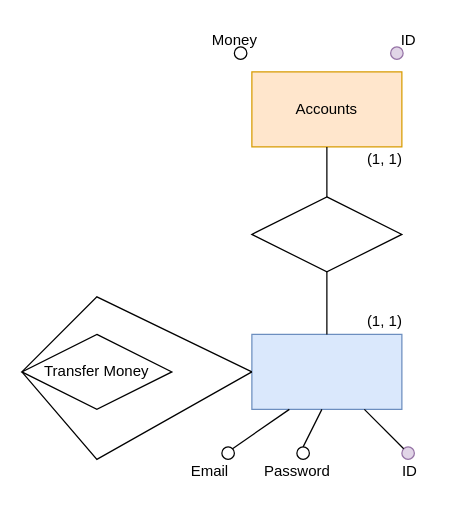
Image size: 450x511. Some labels were removed from this diagram. The centre of each missing label's shape, as x and y in pixels:
HAS: (326,234)
User: (326,371)
